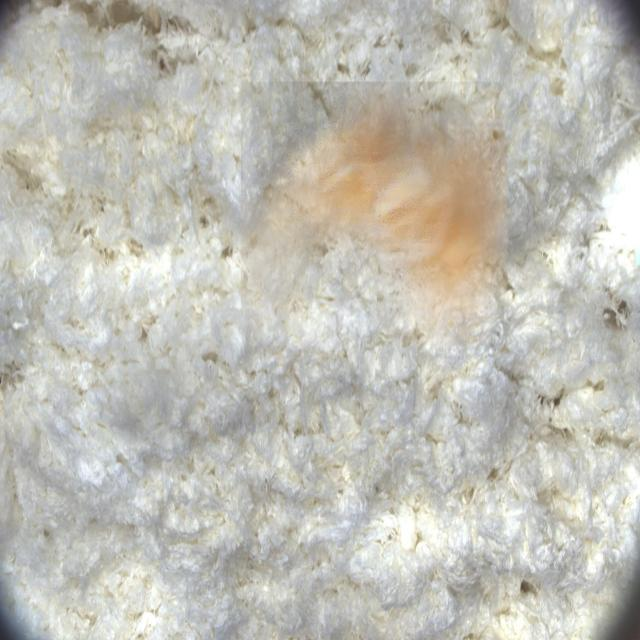dust: (241, 82, 507, 346)
